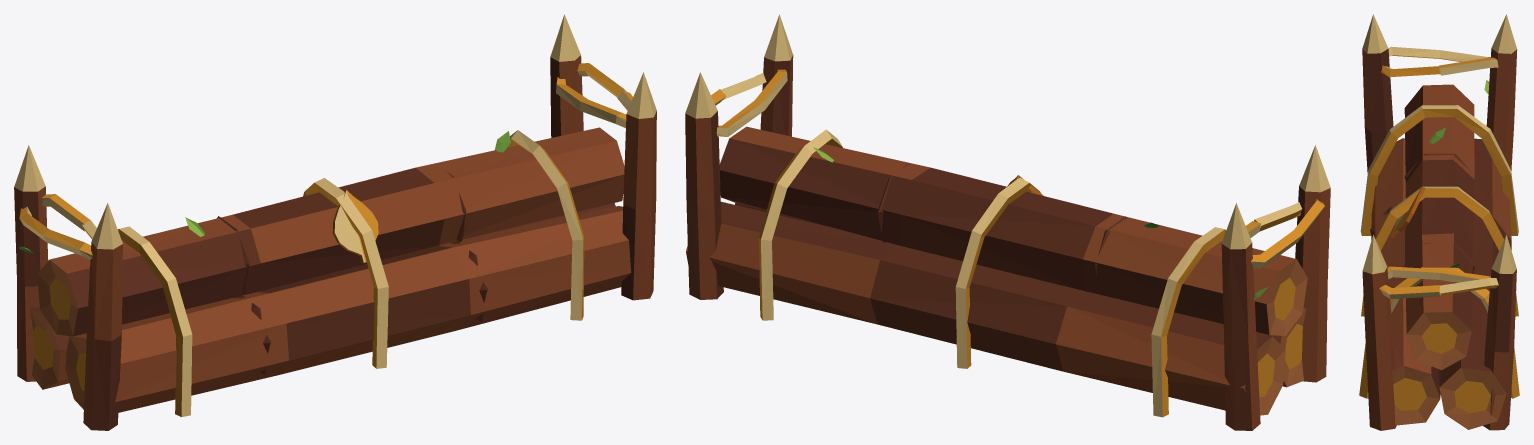
File: barricade_heartwood.glb
The picture shows the model from 3 angles, left to right: view 1: azimuth 30°, elevation 25°; view 2: azimuth 150°, elevation 25°; view 3: azimuth 270°, elevation 25°; orthographic projection. The views are drawn at different scales.
Parts seen in each view (by area): view 1: barricade_heartwood; view 2: barricade_heartwood; view 3: barricade_heartwood.
Part boxes in pixels (left/top/right/bottom): barricade_heartwood: left=14, top=14, right=656, bottom=430; barricade_heartwood: left=685, top=14, right=1330, bottom=430; barricade_heartwood: left=1359, top=14, right=1519, bottom=430.
Bounding box in the file's own units: 2.98 × 1.1 × 0.8384.
